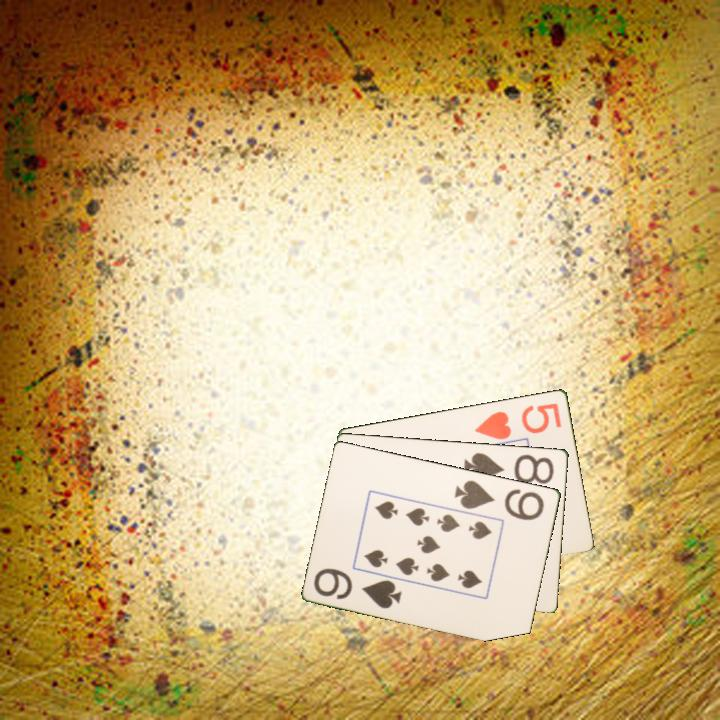5h: (471, 399, 565, 442)
8s: (460, 449, 557, 487)
9s: (451, 476, 547, 523), (310, 564, 405, 611)
